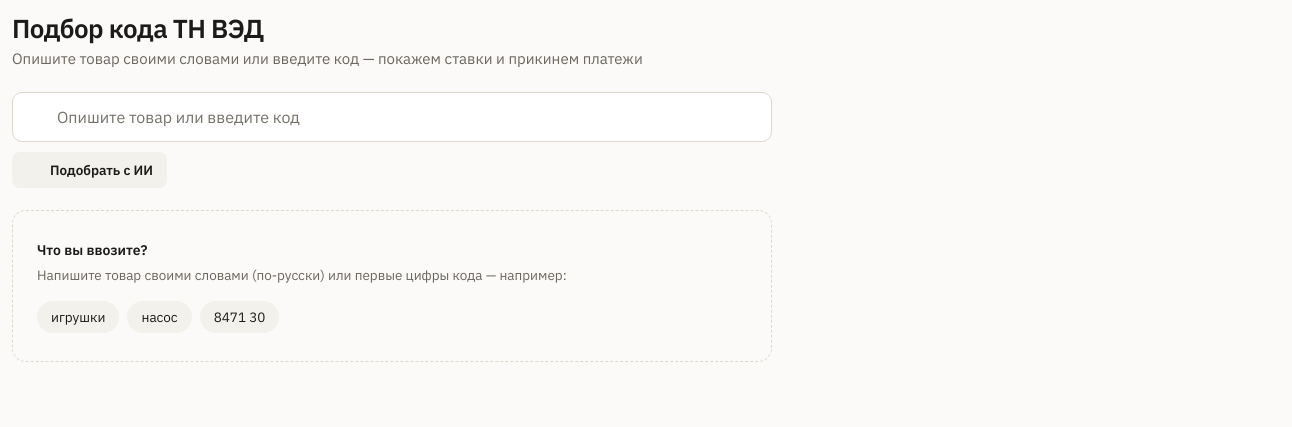
Scenario: ClientTnvedView › ничего не нашлось — текст с запросом
Type "абракадабра" into the search field with placeholder "Опишите товар или введите код" at [406, 117], box [57,105,755,129]
Wait 400 ms
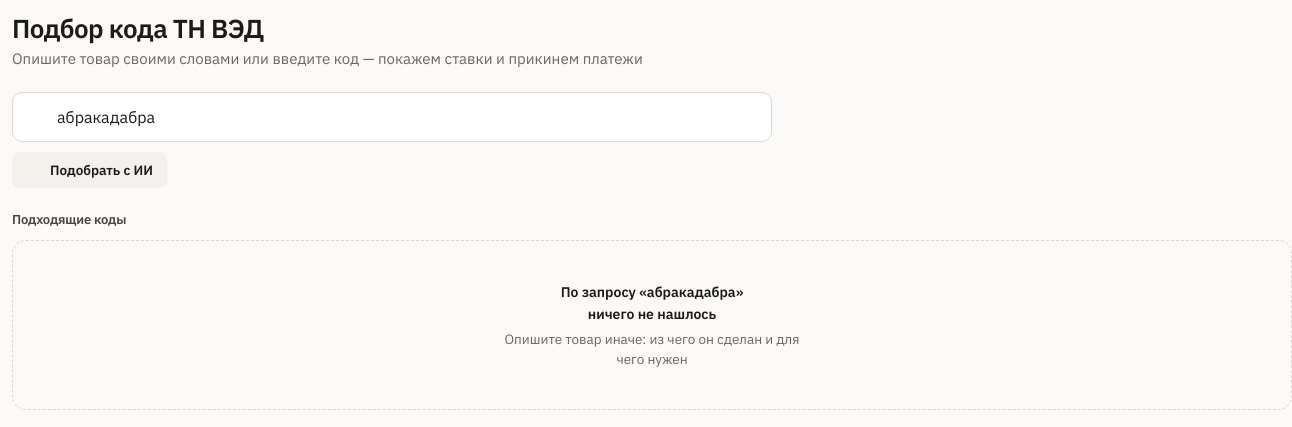
expect the text "По запросу «абракадабра» ничего не нашлось" is shown: met, box [561,283,743,323]
